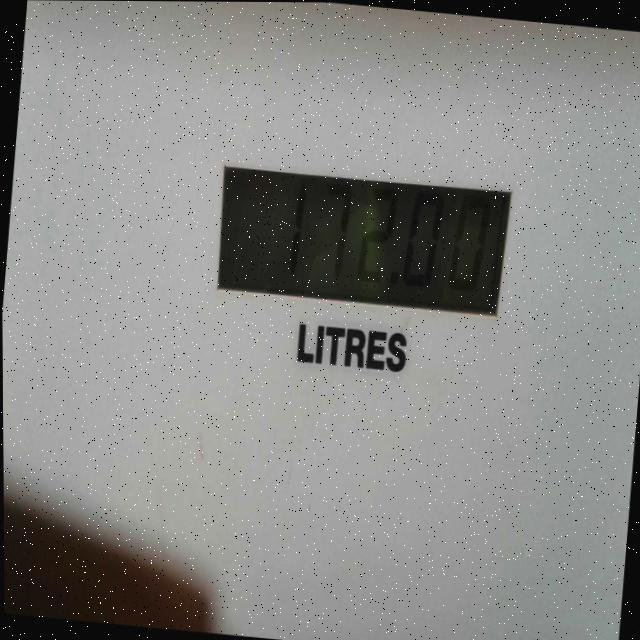.: (389, 267, 398, 283)
0: (446, 195, 489, 297), (400, 186, 441, 288)
1: (286, 180, 310, 273)
2: (354, 181, 394, 282)
7: (318, 179, 351, 279)
